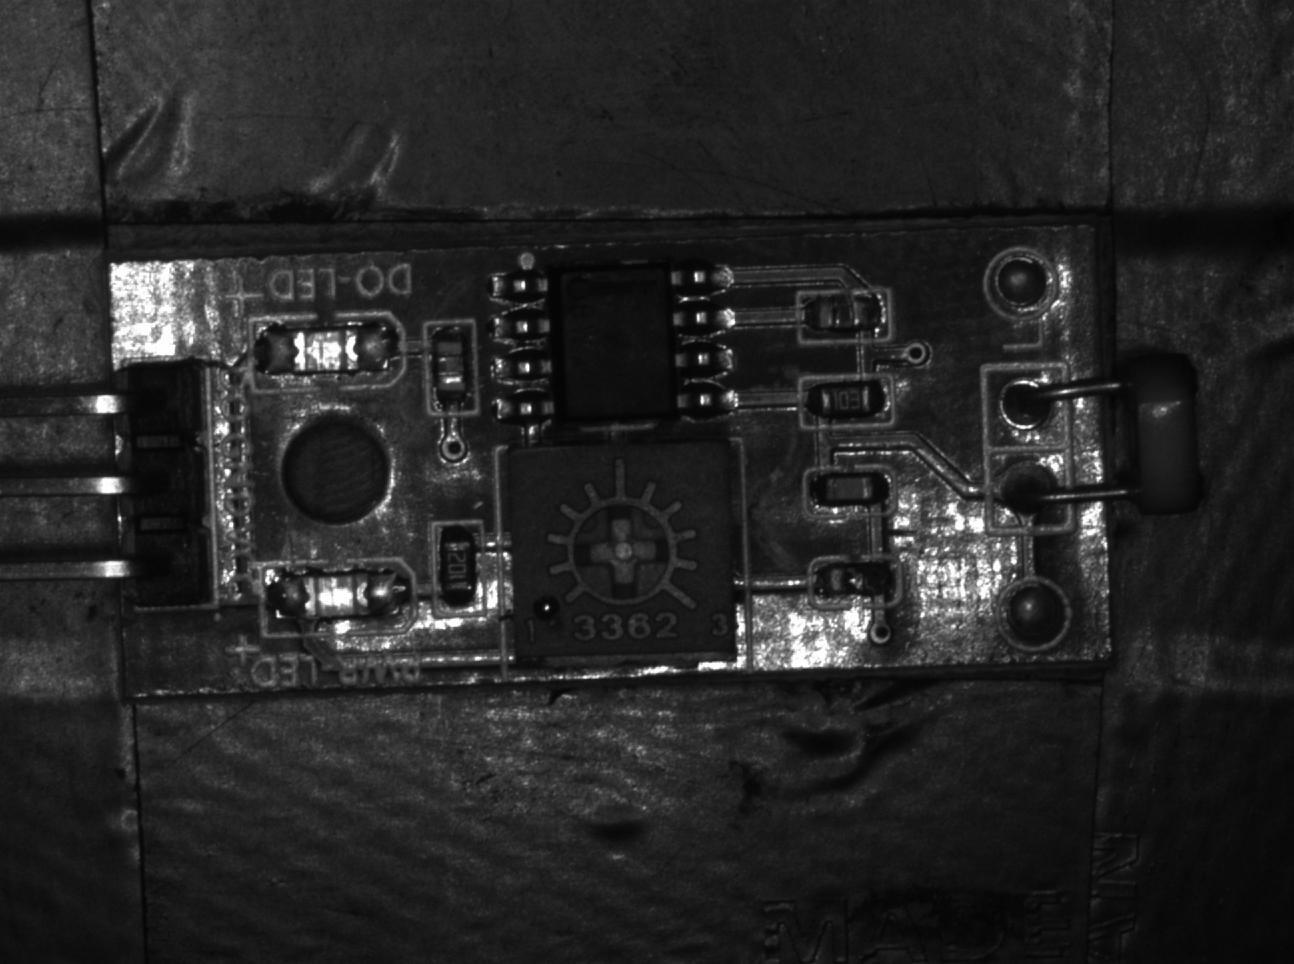miss: (803, 554, 904, 610), (425, 319, 476, 419), (796, 291, 890, 344)
ok: (796, 376, 898, 428), (801, 470, 898, 519), (431, 523, 483, 615)
